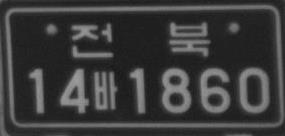0: (238, 66, 270, 113)
1: (24, 67, 54, 115), (125, 67, 155, 114)
4: (60, 67, 90, 113)
6: (199, 67, 232, 114)
8: (161, 66, 192, 113)
바: (92, 71, 117, 110)
전북_D: (70, 20, 211, 57)
